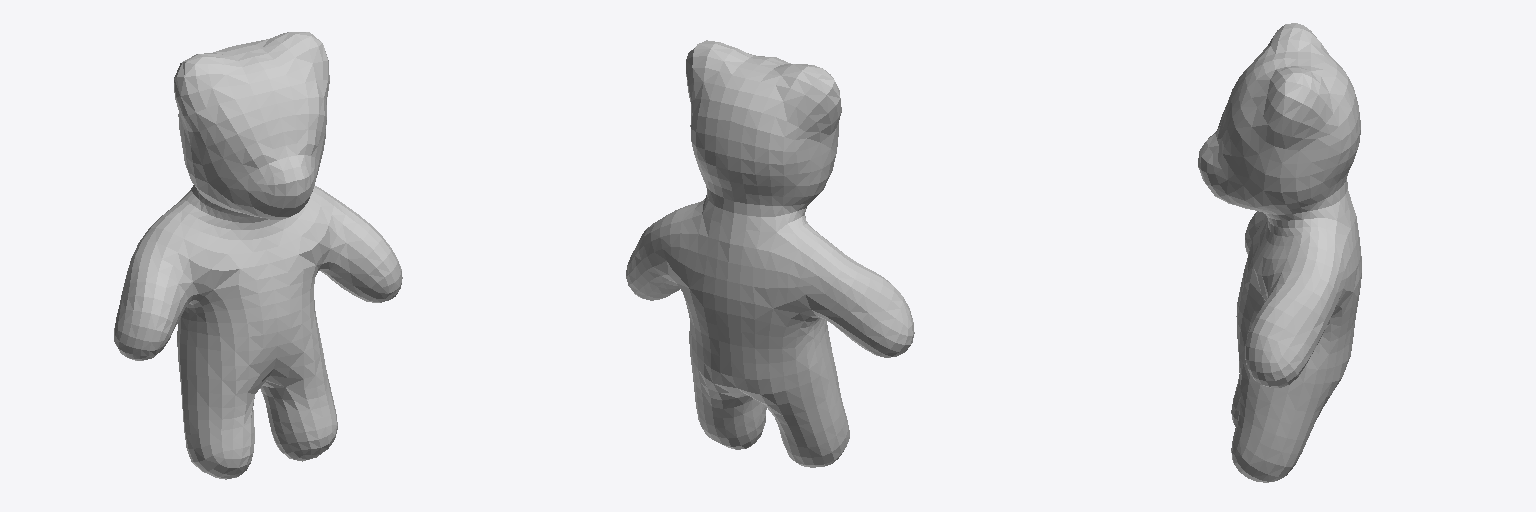
Rendered from lowResTeddybeer.OBJ.
The picture shows the model from 3 angles: view 1: azimuth 30°, elevation 25°; view 2: azimuth 150°, elevation 25°; view 3: azimuth 270°, elevation 25°; orthographic projection.
Parts seen in each view (by area): view 1: Group1; view 2: Group1; view 3: Group1.
Boxes of the visible parts, x1,y1,x2,y2 form: Group1: [114, 32, 402, 479]; Group1: [626, 40, 914, 467]; Group1: [1198, 23, 1361, 482].
Bounding box in the file's own units: 1.45 × 2.03 × 0.7365.